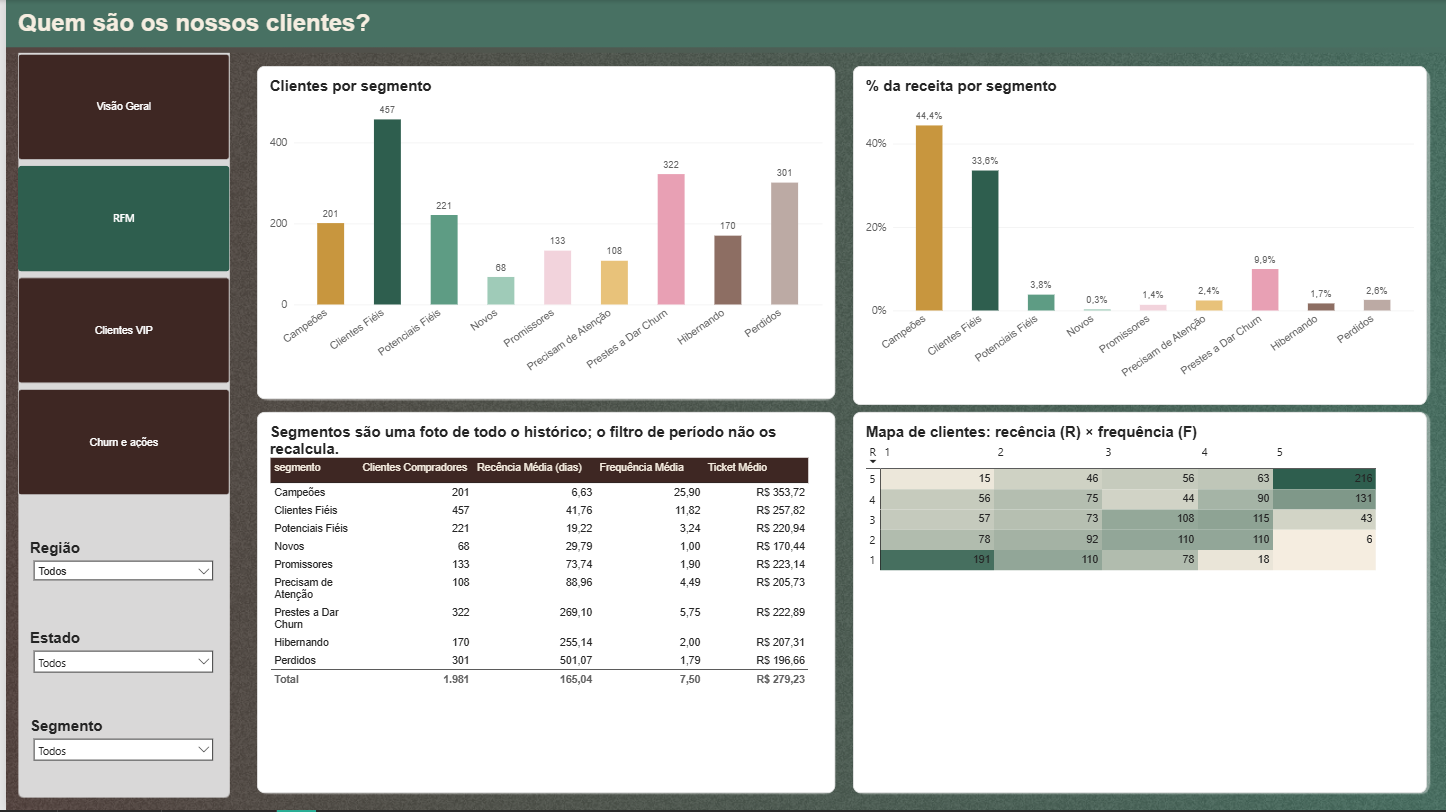

This screenshot's page, from the dashboard's own definition file:
{"tool":"powerbi","page":{"name":"RFM","canvas":[1920,1080],"ordinal":1},"visuals":[{"type":"pivotTable","title":"Mapa de clientes: recência (R) × frequência (F)","fields":{"Columns":["dim_clientes.F"],"Rows":["dim_clientes.R"],"Values":["Medidas.Clientes Compradores"]},"box":[1129.3,549.3,765.3,508],"z":0},{"type":"columnChart","title":"Clientes por segmento","fields":{"Category":["dim_clientes.segmento"],"Y":["Medidas.Clientes Compradores"]},"box":[334.7,88,770.7,444],"z":1000},{"type":"columnChart","title":"% da receita por segmento","fields":{"Category":["dim_clientes.segmento"],"Y":["Medidas.% Receita do Segmento"]},"box":[1129.3,88,765.3,452],"z":2000},{"type":"tableEx","title":"Segmentos são uma foto de todo o histórico; o filtro de período não os recalcula.","fields":{"Values":["dim_clientes.segmento","Medidas.Clientes Compradores","Medidas.Recência Média (dias)","Medidas.Frequência Média","Medidas.Ticket Médio"]},"box":[334.7,549.3,770.7,508],"z":3000},{"type":"slicer","title":"Região","fields":{"Values":["dim_clientes.regiao"]},"box":[32,718.7,249.3,102.7],"z":4000},{"type":"slicer","title":"Estado","fields":{"Values":["dim_clientes.estado"]},"box":[32,838.7,249.3,101.3],"z":5000},{"type":"slicer","title":"Segmento","fields":{"Values":["dim_clientes.segmento"]},"box":[32,956,249.3,101.3],"z":6000},{"type":"pageNavigator","box":[16,72,282.7,588],"z":7000},{"type":"textbox","box":[16,12,1893.3,45.3],"z":8000}]}

Visuals, with their boxes in screenshot pixels (x1, y1, x2, y2), scaled from the page's 1920x1080 canvas onto the 1446x812 screenshot:
"Mapa de clientes: recência (R) × frequência (F)" pivotTable: locate(851, 413, 1427, 795)
"Clientes por segmento" columnChart: locate(252, 66, 833, 400)
"% da receita por segmento" columnChart: locate(851, 66, 1427, 406)
"Segmentos são uma foto de todo o histórico; o filtro de período não os recalcula." tableEx: locate(252, 413, 833, 795)
"Região" slicer: locate(24, 540, 212, 618)
"Estado" slicer: locate(24, 631, 212, 707)
"Segmento" slicer: locate(24, 719, 212, 795)
pageNavigator: locate(12, 54, 225, 496)
textbox: locate(12, 9, 1438, 43)
